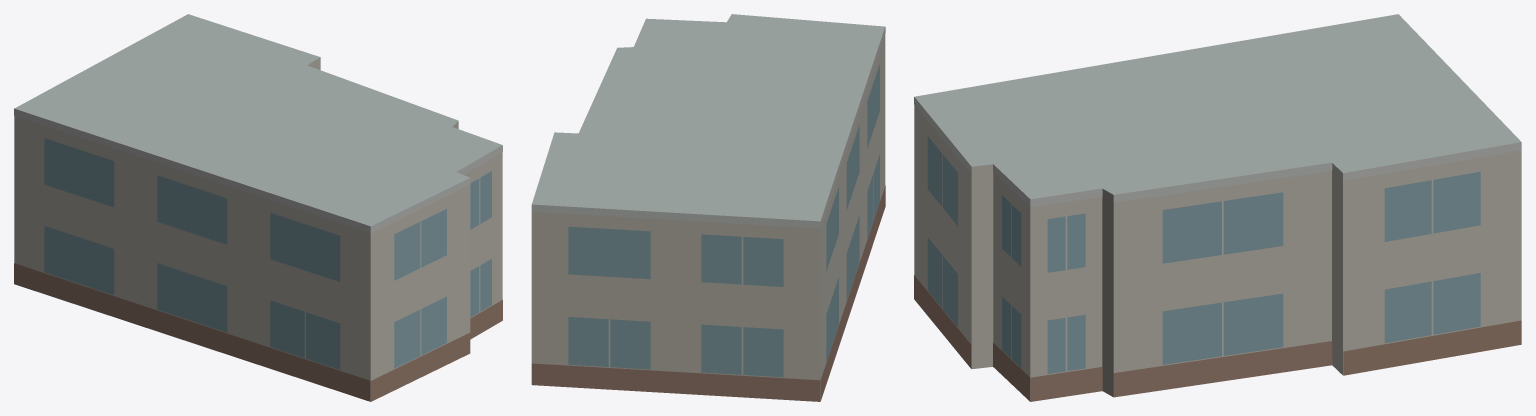
Rendered from survey-upis-32966155.glb.
3 views of the same model, side by side, from view 1: azimuth 30°, elevation 25°; view 2: azimuth 150°, elevation 25°; view 3: azimuth 270°, elevation 25° (orthographic). The views are drawn at different scales.
Parts seen in each view (by area): view 1: survey-upis-32966155.tmp; view 2: survey-upis-32966155.tmp; view 3: survey-upis-32966155.tmp.
Part boxes in pixels (box(x1,y1,x2,y2)): survey-upis-32966155.tmp: box(14, 14, 502, 401); survey-upis-32966155.tmp: box(531, 14, 885, 401); survey-upis-32966155.tmp: box(914, 14, 1521, 401).
Size of the model in its own units: 11.98 by 6.1 by 16.59.
